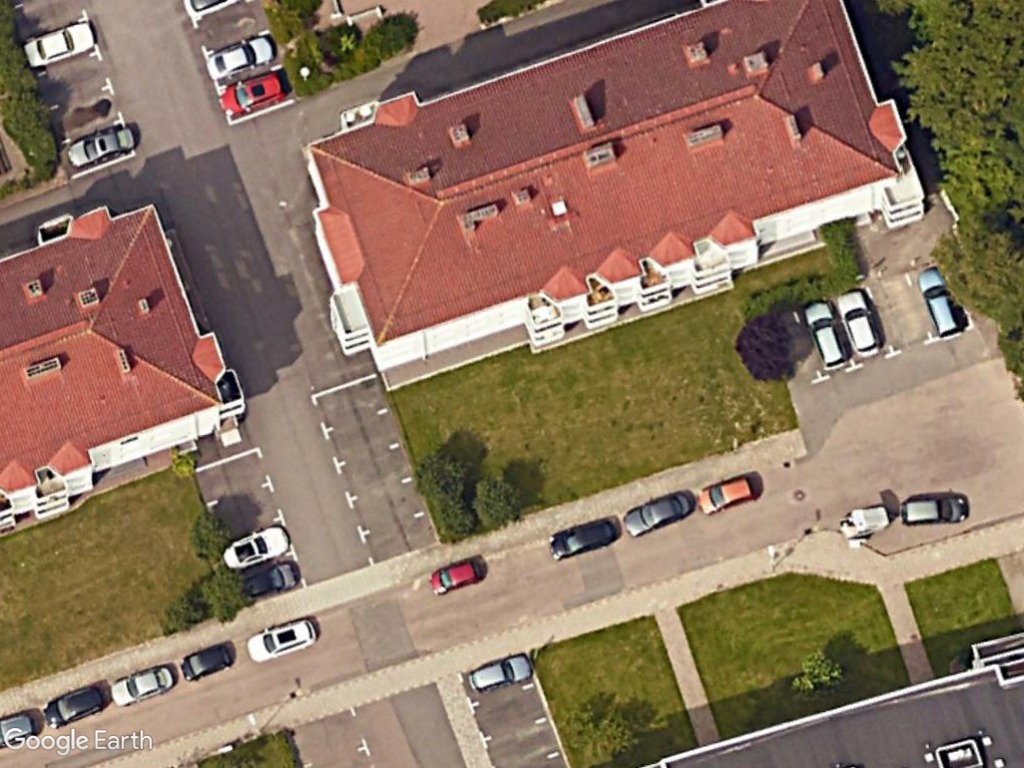car: (23, 18, 104, 72), (244, 612, 321, 667), (617, 489, 696, 541), (220, 523, 293, 579), (547, 511, 623, 564), (801, 295, 851, 375), (106, 656, 180, 710), (63, 123, 140, 174), (203, 32, 278, 84), (215, 68, 287, 121), (916, 265, 963, 343), (836, 286, 884, 360), (39, 681, 107, 732), (464, 649, 537, 695), (176, 637, 241, 685), (423, 555, 486, 600), (695, 471, 758, 516)
